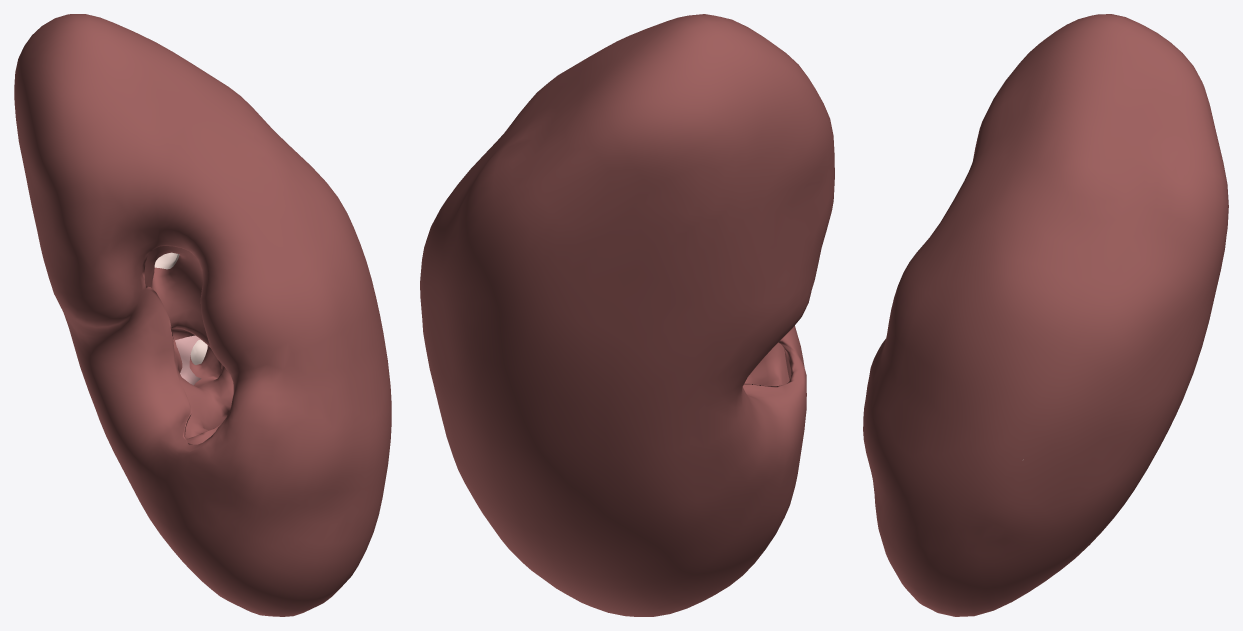
File: vh_f_kidney_l-80.glb
3 views of the same model, side by side, from view 1: azimuth 30°, elevation 25°; view 2: azimuth 150°, elevation 25°; view 3: azimuth 270°, elevation 25° (orthographic). The views are drawn at different scales.
Visible parts, largest first — view 1: VH_F_kidney_capsule_L, VH_F_hilum_of_kidney_L, VH_F_renal_pyramid_L_g, VH_F_renal_column_L; view 2: VH_F_kidney_capsule_L, VH_F_hilum_of_kidney_L; view 3: VH_F_kidney_capsule_L.
Boxes of the visible parts, box(x1,y1,x2,y2) form: VH_F_kidney_capsule_L: box(14, 14, 391, 616); VH_F_hilum_of_kidney_L: box(144, 246, 233, 444); VH_F_renal_pyramid_L_g: box(175, 335, 201, 385); VH_F_renal_column_L: box(154, 252, 207, 364); VH_F_kidney_capsule_L: box(420, 14, 834, 616); VH_F_hilum_of_kidney_L: box(744, 342, 789, 385); VH_F_kidney_capsule_L: box(863, 14, 1228, 616).
Size of the model in its own units: 0.0731 by 0.1249 by 0.0776.
